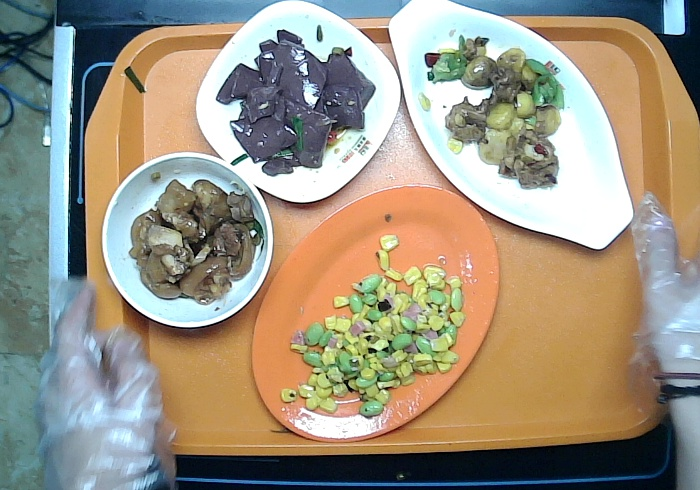NLDX-Bai_Se_Xiao_Fang_Die: (194, 1, 402, 204)
NLDX-Fan_Wan: (100, 149, 275, 330)
NLDX-Ju_Se_Pan: (249, 182, 501, 443)
NLDX-Yu_Pan: (387, 1, 635, 251)
